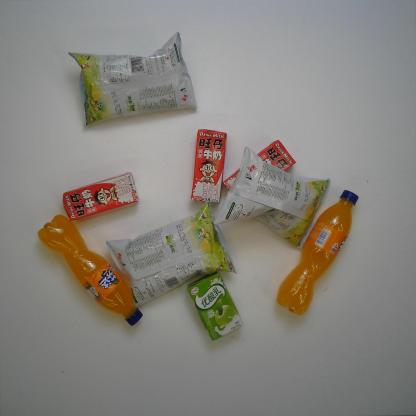Drink: (37, 214, 143, 326), (277, 188, 359, 316)
Milk: (222, 139, 296, 198), (187, 271, 244, 341), (62, 171, 139, 222), (190, 128, 228, 204)
Puffed Food: (106, 200, 238, 308), (66, 32, 198, 128), (214, 146, 331, 252)
